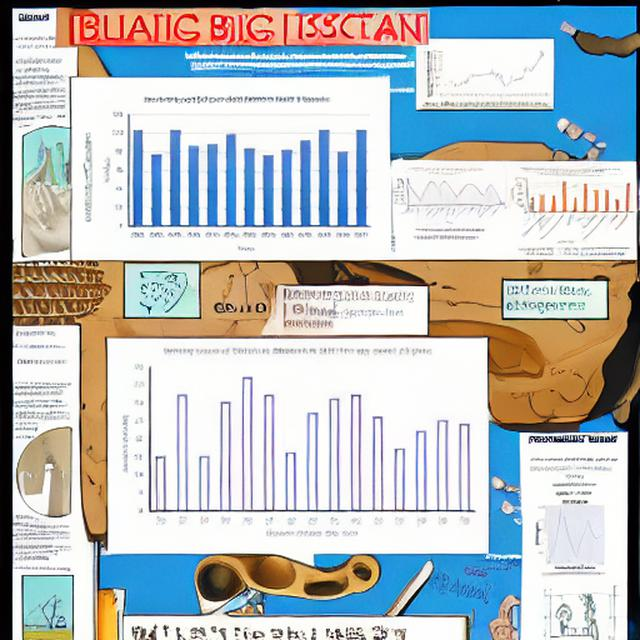Graph: (112, 341, 483, 548), (94, 89, 382, 257), (506, 166, 635, 244), (524, 496, 624, 571), (436, 46, 551, 98), (397, 166, 493, 224)
